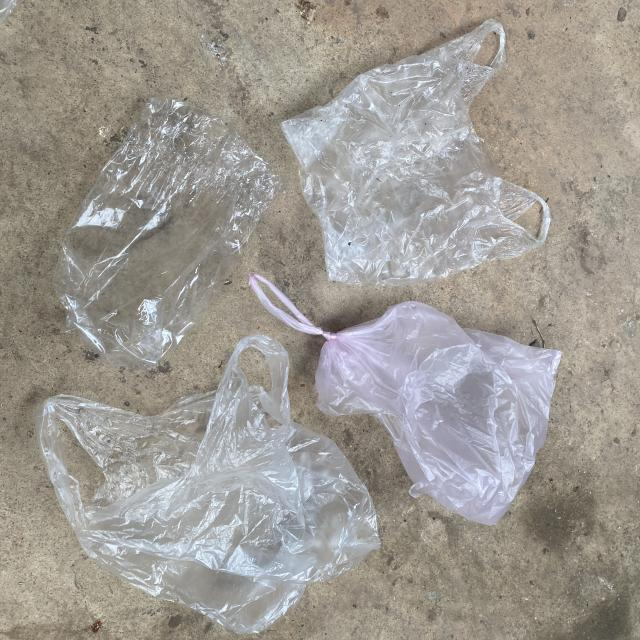Single-layer Plastic: (36, 335, 380, 634), (249, 272, 561, 525), (282, 20, 550, 286), (52, 98, 282, 370)
